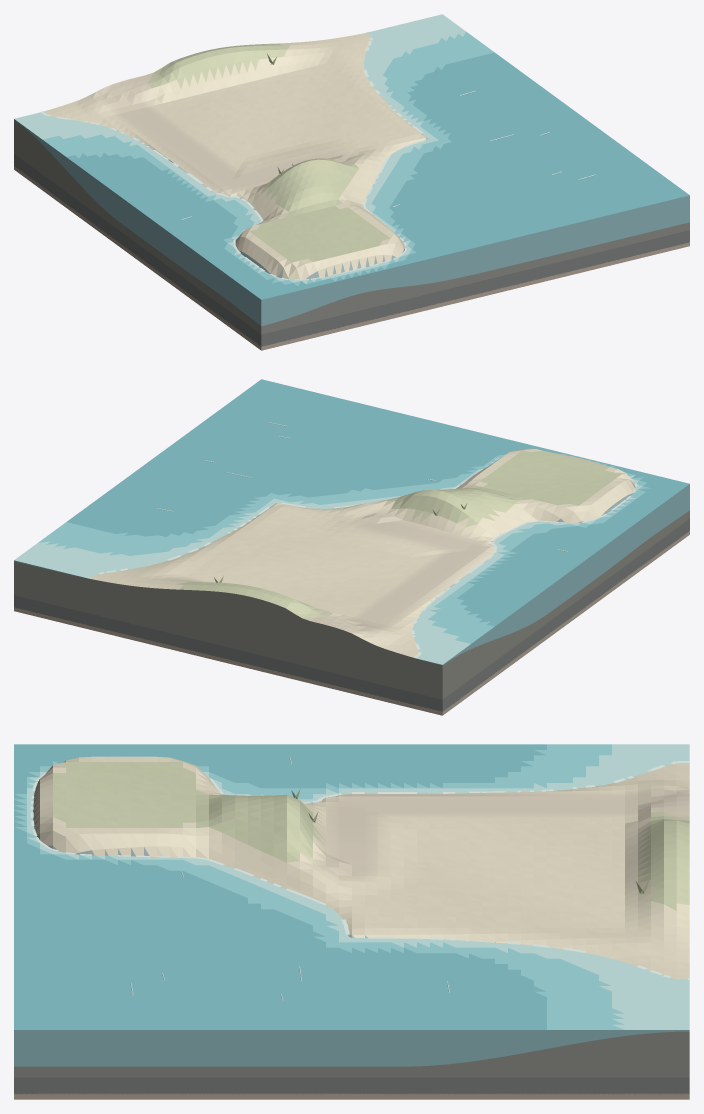
The model's file is J793_proc.glb.
The picture shows the model from 3 angles, top to bottom: view 1: azimuth 30°, elevation 25°; view 2: azimuth 150°, elevation 25°; view 3: azimuth 270°, elevation 25°; orthographic projection. The views are drawn at different scales.
Visible parts, largest first — view 1: proc_water, proc_ground, proc_skirt, proc_water_side, proc_foam; view 2: proc_water, proc_ground, proc_skirt, proc_water_side, proc_foam; view 3: proc_water, proc_ground, proc_skirt, proc_water_side, proc_foam.
Boxes of the visible parts, x1,y1,x2,y2 form: proc_water: (14, 14, 689, 299); proc_ground: (43, 33, 427, 279); proc_skirt: (14, 120, 689, 350); proc_water_side: (14, 119, 689, 326); proc_foam: (40, 31, 425, 280); proc_water: (14, 379, 689, 664); proc_ground: (90, 448, 635, 658); proc_skirt: (14, 510, 689, 715); proc_water_side: (14, 484, 689, 665); proc_foam: (88, 478, 637, 657); proc_water: (14, 744, 689, 1029); proc_ground: (33, 756, 689, 979); proc_skirt: (14, 1031, 689, 1099); proc_water_side: (14, 1030, 689, 1066); proc_foam: (30, 761, 689, 979).
Size of the model in its own units: 8 by 1.44 by 8.
